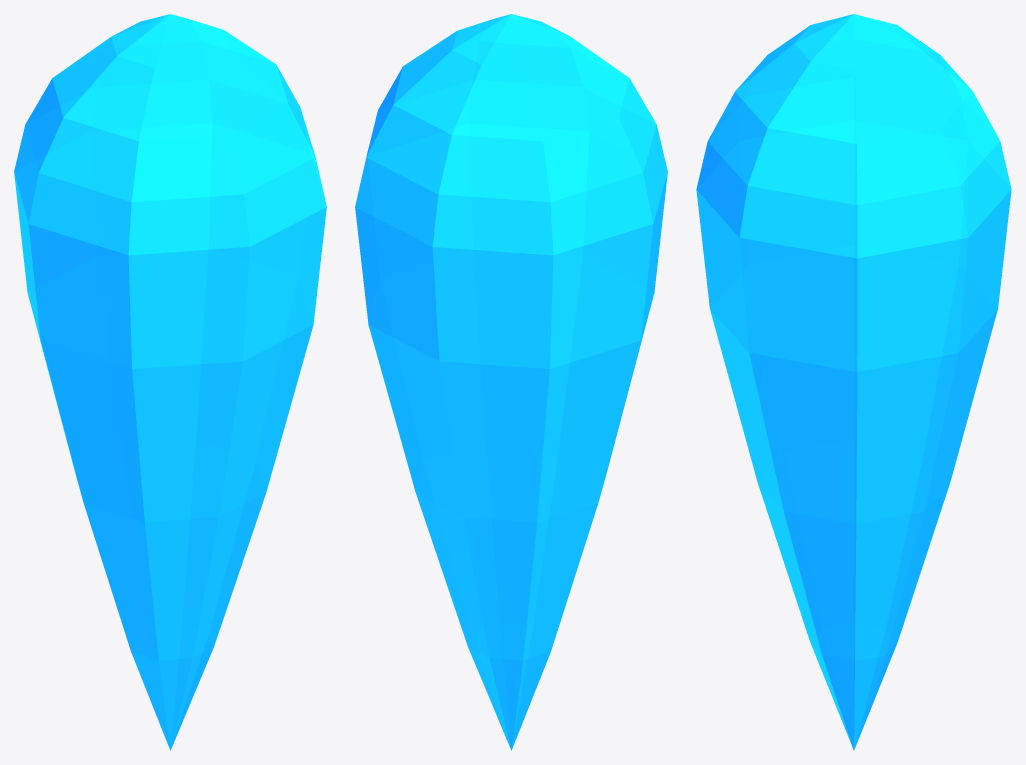
File: IceAwl.fbx
3 views of the same model, side by side, from view 1: azimuth 30°, elevation 25°; view 2: azimuth 150°, elevation 25°; view 3: azimuth 270°, elevation 25° (orthographic).
Parts seen in each view (by area): view 1: IceAwl; view 2: IceAwl; view 3: IceAwl.
Part boxes in pixels (x1,y1,x2,y2): IceAwl: [14, 14, 326, 750]; IceAwl: [355, 14, 667, 750]; IceAwl: [696, 14, 1011, 750].
Size of the model in its own units: 175 by 433 by 168.
1 material, 1 textured.
